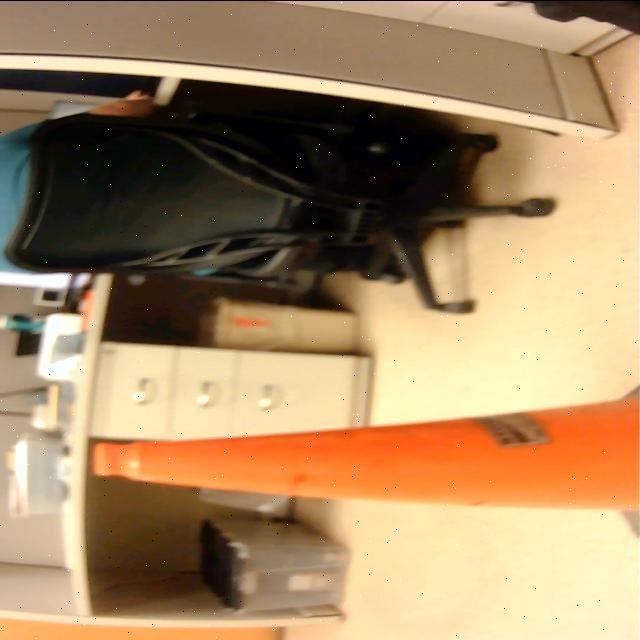traffic cone: (87, 369, 640, 544)
